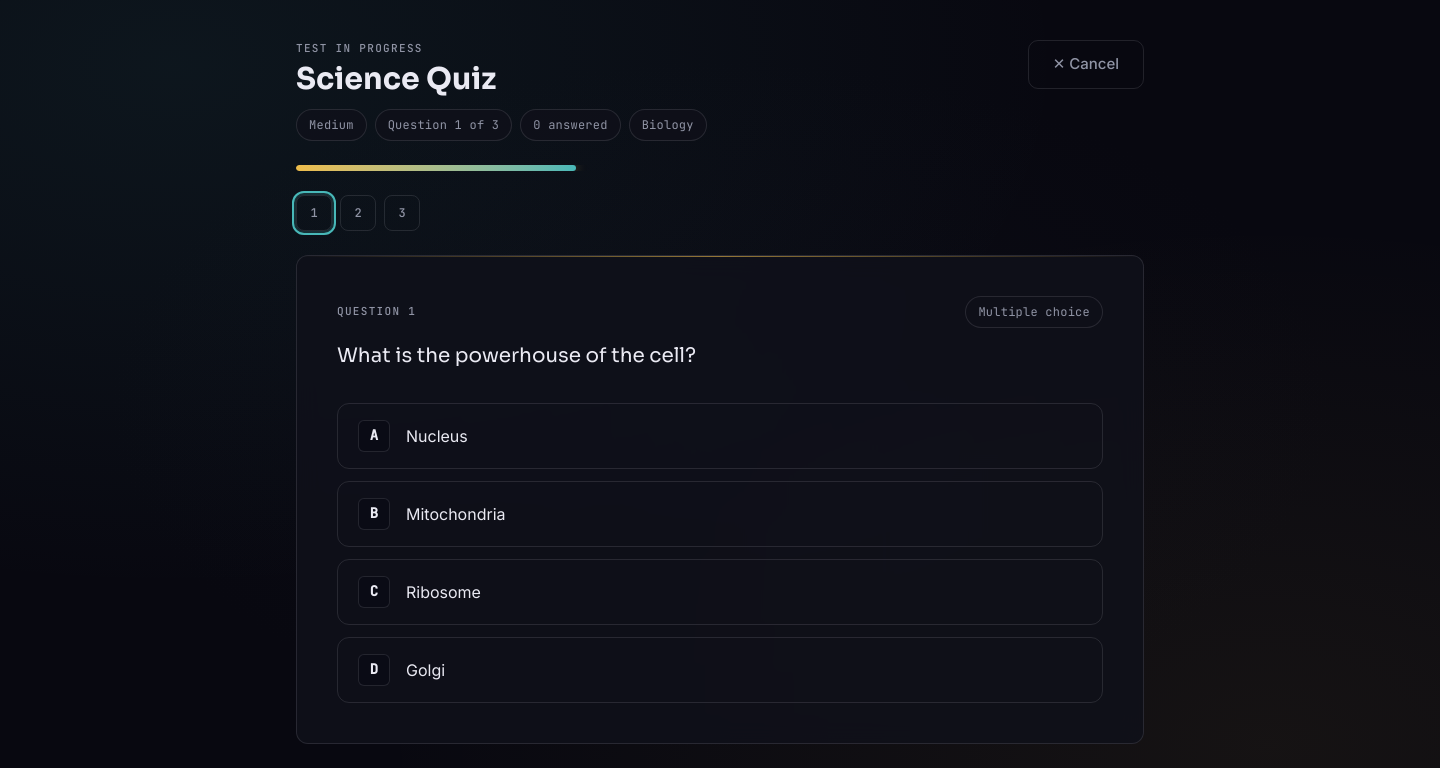
Test: TakeTest › shows Finish Test button on last question
The width and height of the screenshot is (1440, 768).
Expected: the text "Question 1 of 3" is shown, [375, 108, 512, 140]
Click the button named "Go to question 3". click: {"x": 402, "y": 212}
box: [384, 194, 420, 230]
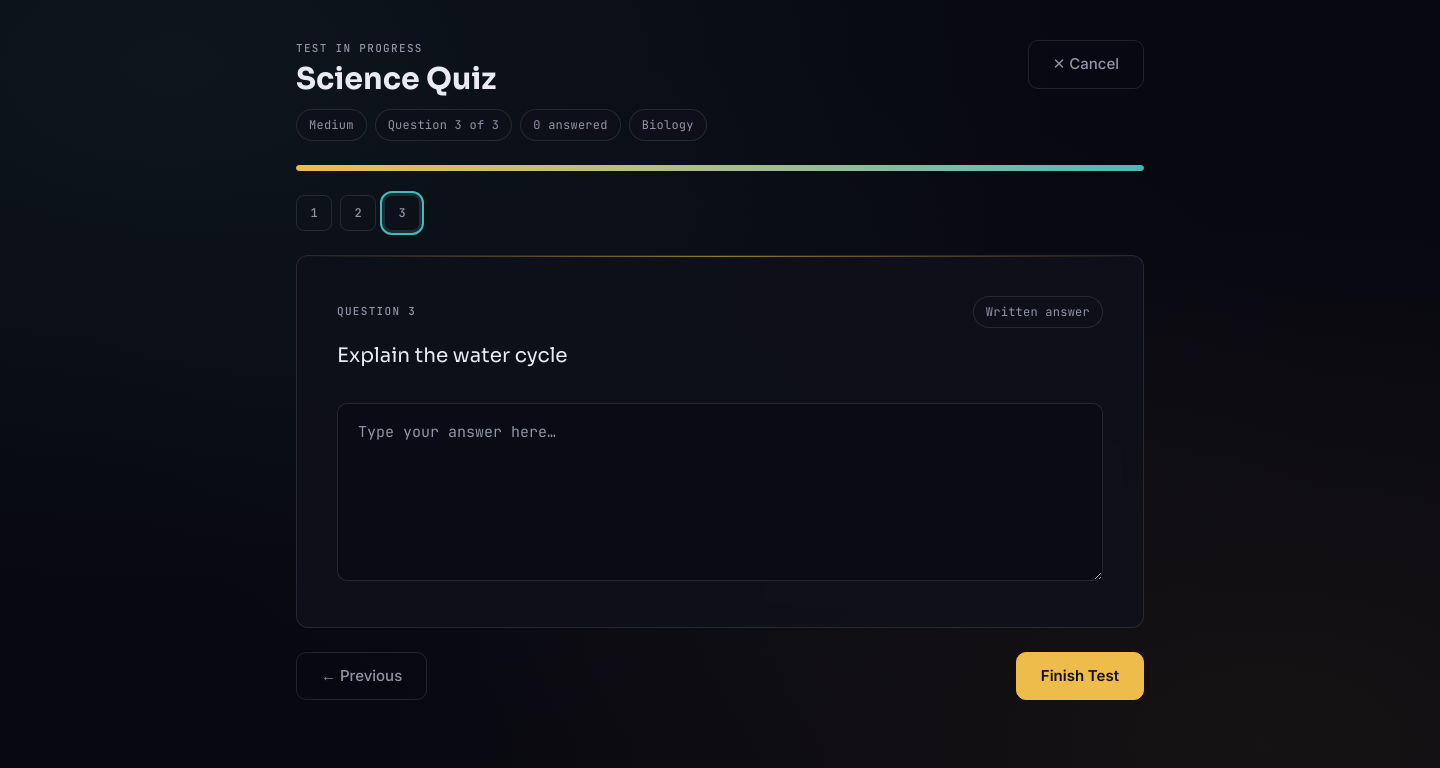
Expected: the button "Finish Test" is shown, [1016, 652, 1144, 700]
